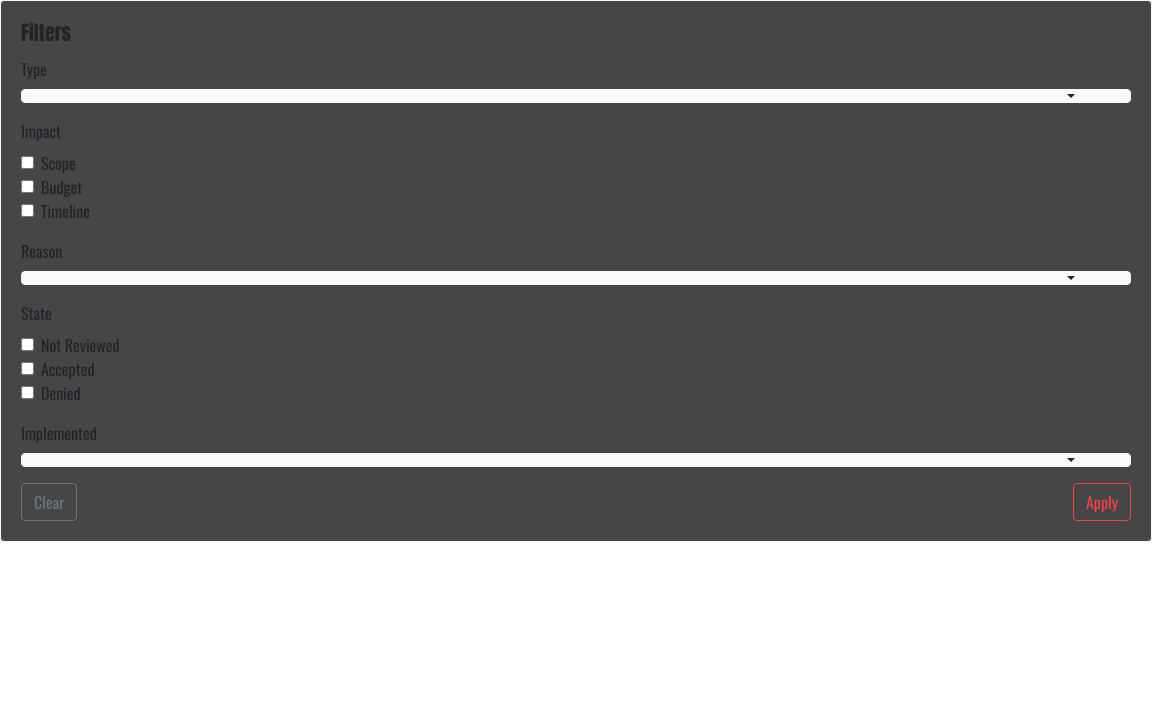
Scenario: change requests table filter component › checking if data in the implemented dropdown menu is correct
Expected: the text "None" is not shown
Expected: the text "Yes" is not shown
Click the button with test id "implemented-toggle" at (576,460), box [21,453,1131,467]
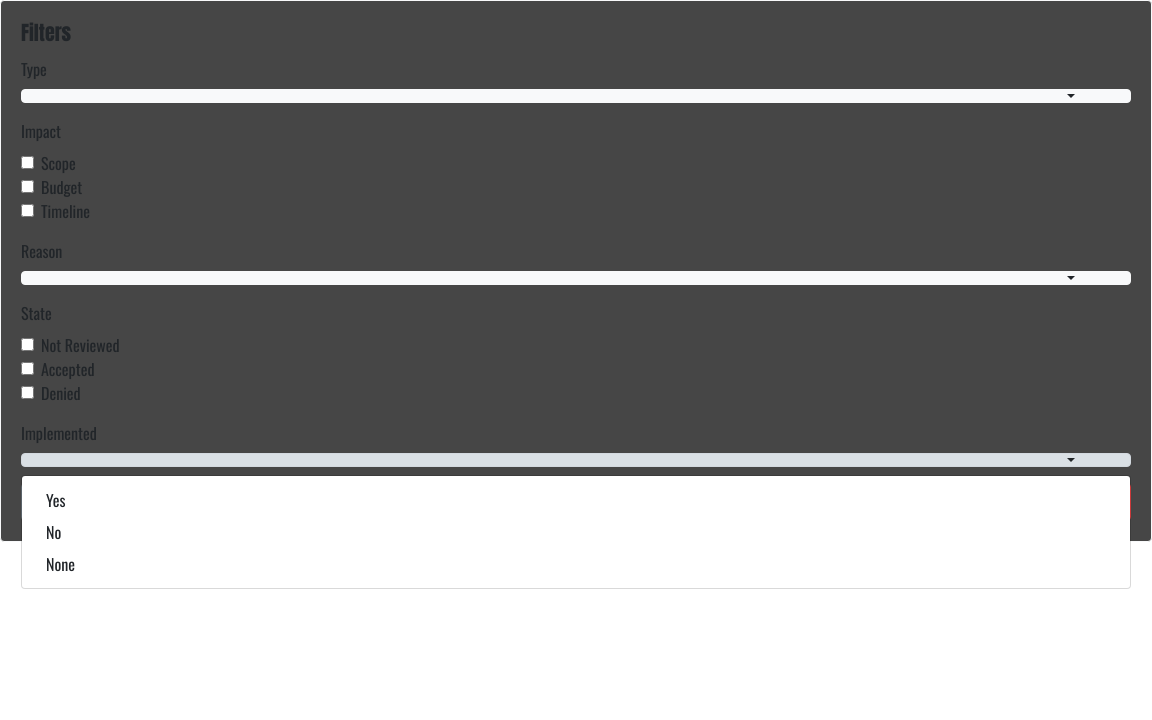
Expected: the button "None" is shown, [46,552,75,576]
Expected: the button "Yes" is shown, [46,488,66,512]
Expected: the button "No" is shown, [46,520,61,544]
